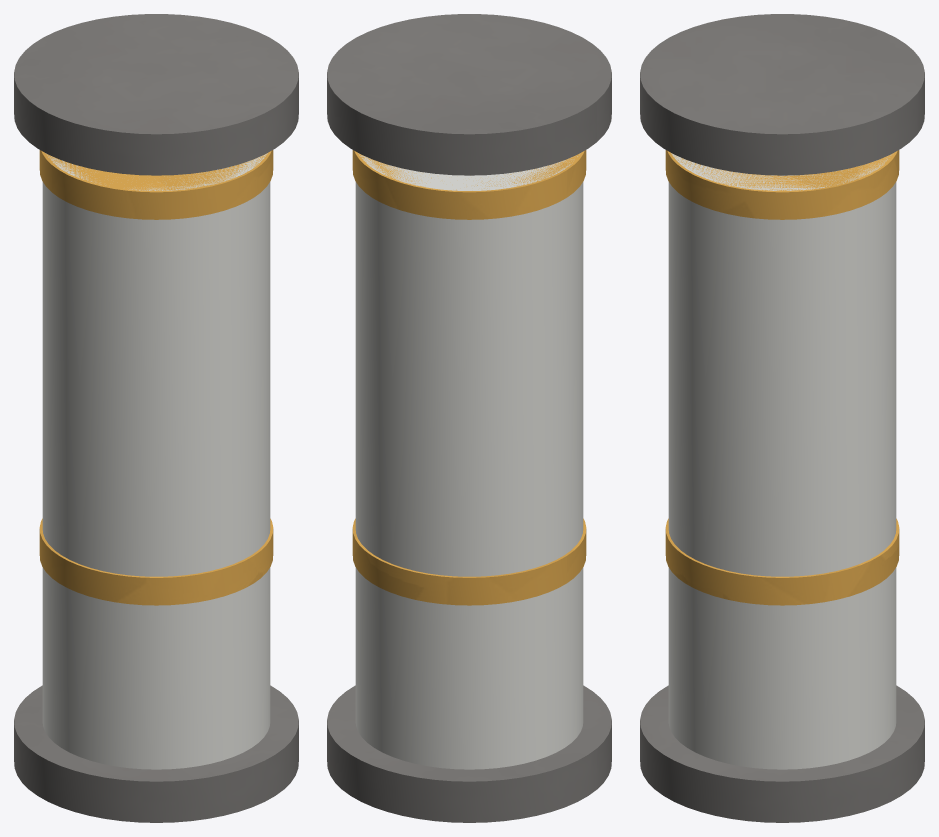
The model's file is robo02_piston_s.glb.
The picture shows the model from 3 angles, left to right: view 1: azimuth 30°, elevation 25°; view 2: azimuth 150°, elevation 25°; view 3: azimuth 270°, elevation 25°; orthographic projection.
Parts seen in each view (by area): view 1: barrel, rod_plate, base_plate, barrel_bands; view 2: barrel, rod_plate, base_plate, barrel_bands; view 3: barrel, rod_plate, base_plate, barrel_bands.
Boxes of the visible parts, <box> form: barrel: <box>42,153,270,769</box>; rod_plate: <box>14,14,298,175</box>; base_plate: <box>14,685,298,822</box>; barrel_bands: <box>39,150,273,605</box>; barrel: <box>355,153,583,769</box>; rod_plate: <box>327,14,611,175</box>; base_plate: <box>327,685,611,822</box>; barrel_bands: <box>352,150,586,605</box>; barrel: <box>668,153,896,769</box>; rod_plate: <box>640,14,924,175</box>; base_plate: <box>640,685,924,822</box>; barrel_bands: <box>665,150,899,605</box>.
Bounding box in the file's own units: 0.2997 × 0.8 × 0.2999.
4 materials, 3 textured.
